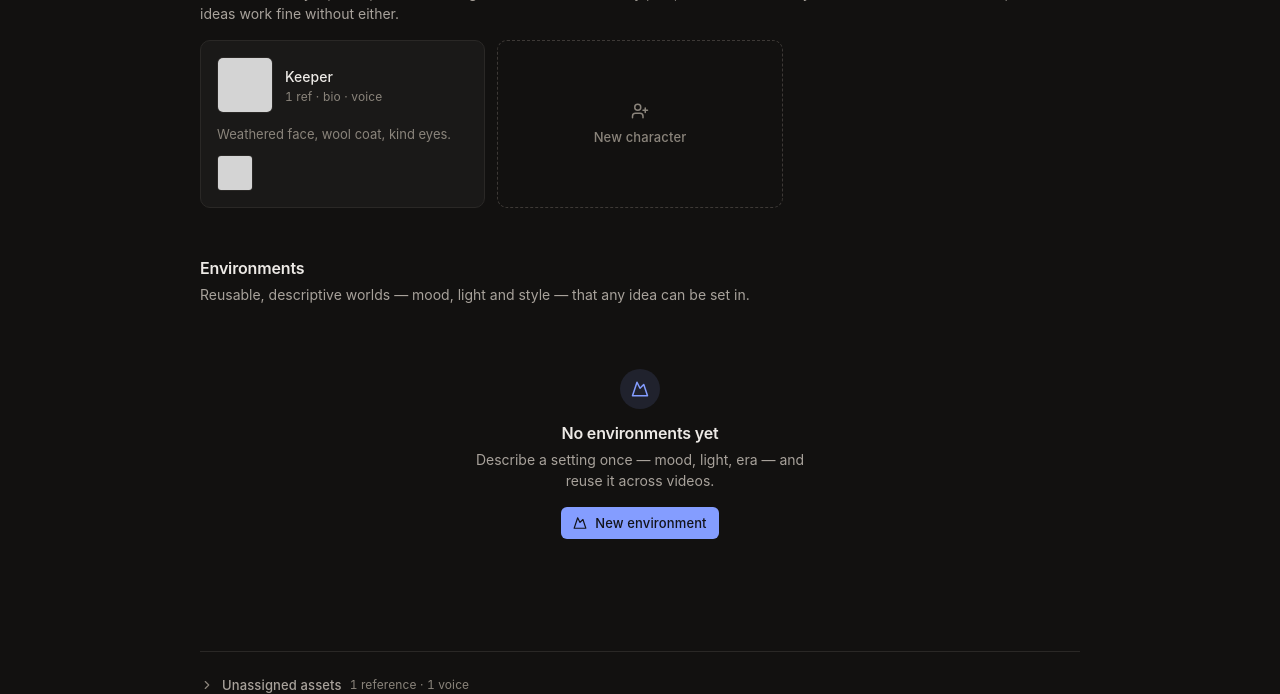
Test: Cast — unassigned assets › starts collapsed, expands on click, and assigns a reference by slug via the chip row
(page scrolled)
Expected: the text "1 reference · 1 voice" is shown, [350, 677, 469, 693]
Expected: the text "lantern.png" is not shown
Click the button "Unassigned assets 1 reference · 1 voice". click: (335, 685)
box: [200, 676, 469, 693]
(page scrolled)
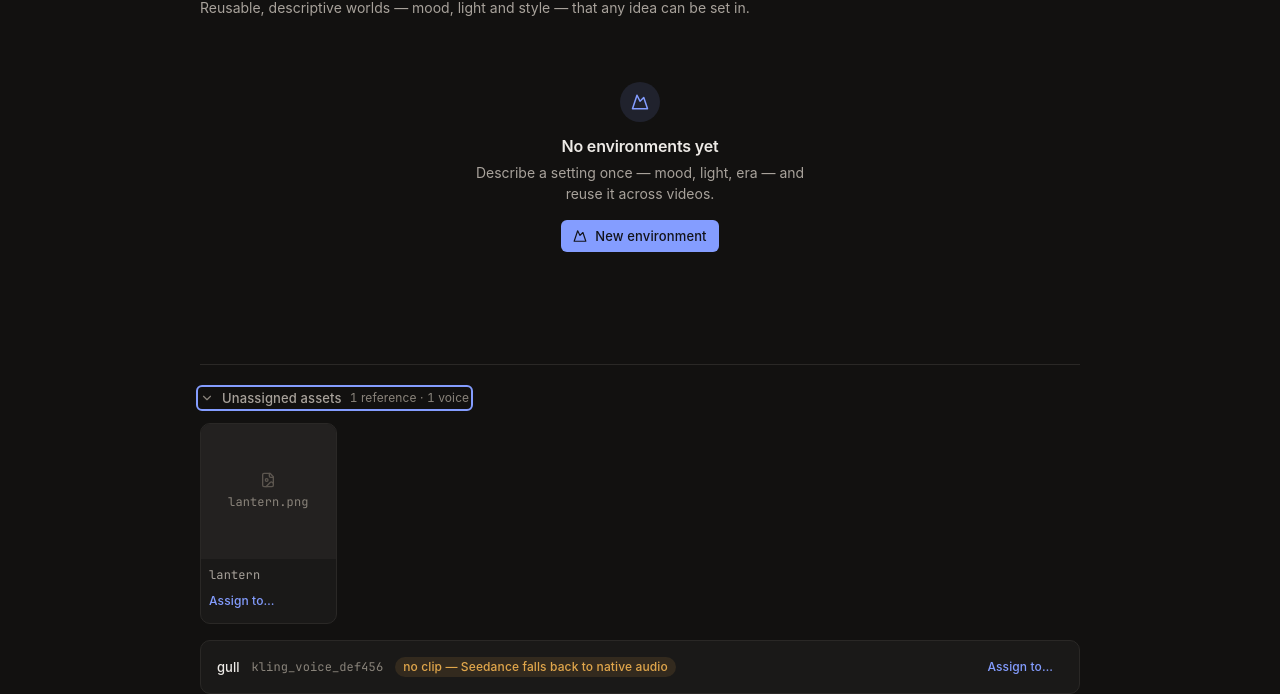
Expected: the button "Unassigned assets 1 reference · 1 voice" is expanded, [200, 389, 469, 407]
Expected: the text "lantern.png" is shown, [228, 494, 309, 510]
Expected: the text "kling_voice_def456" is shown, [251, 659, 383, 675]
Click the button with aria-label "Assign lantern to a character". click: (242, 601)
box: [199, 587, 285, 615]
(page scrolled)
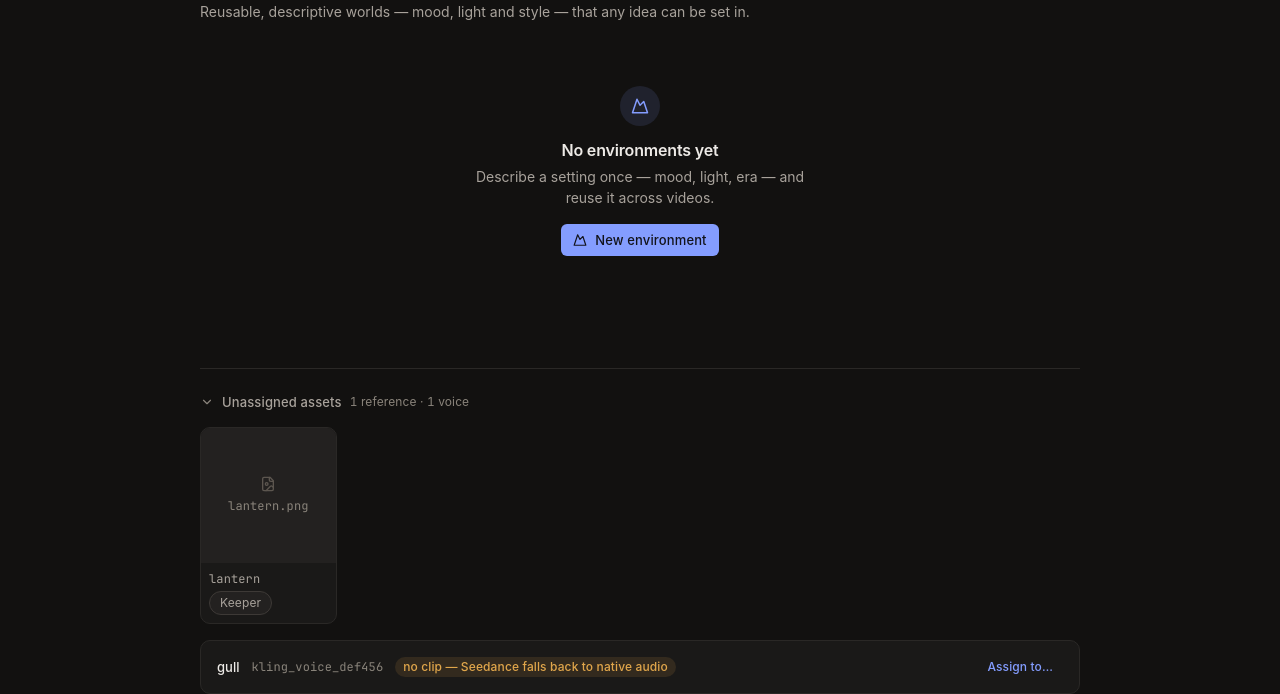
Click the button "Keeper". click: (241, 603)
box: [209, 591, 272, 615]
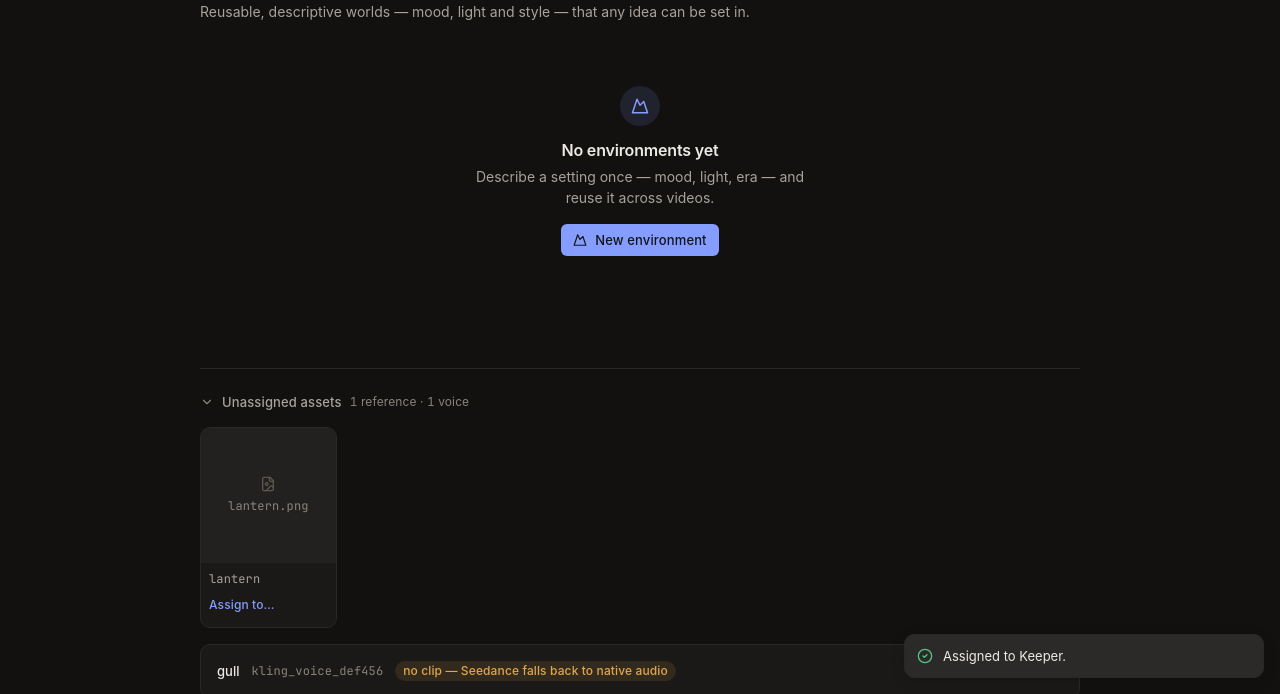
Expected: the text "Assigned to Keeper." is shown, [943, 648, 1066, 664]
